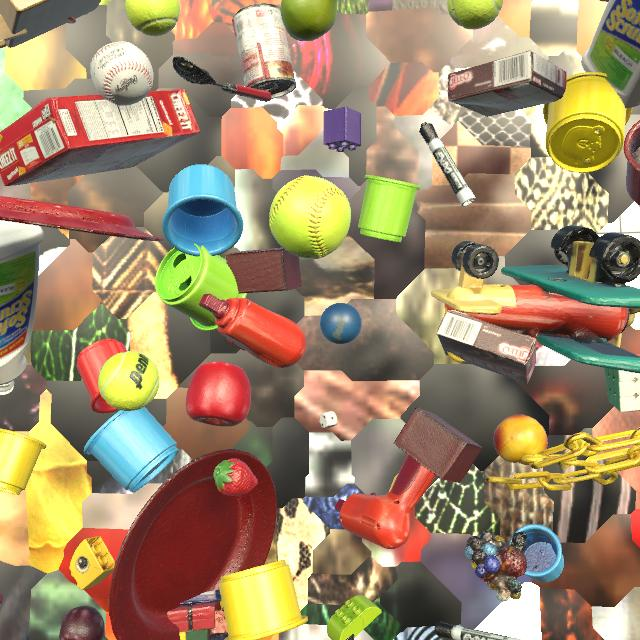ycb_003_cracker_box: (0, 89, 200, 186)
ycb_005_tomato_soup_can: (232, 3, 296, 99)
ycb_008_pudding_box: (448, 50, 567, 117), (436, 310, 536, 384)
ycb_012_strawberry: (213, 458, 258, 496)
ycb_013_apple: (186, 361, 251, 427), (600, 0, 609, 2)
ycb_015_peach: (493, 414, 548, 465)
ycb_016_pear: (281, 0, 337, 41)
ycb_018_plum: (59, 606, 105, 640)
